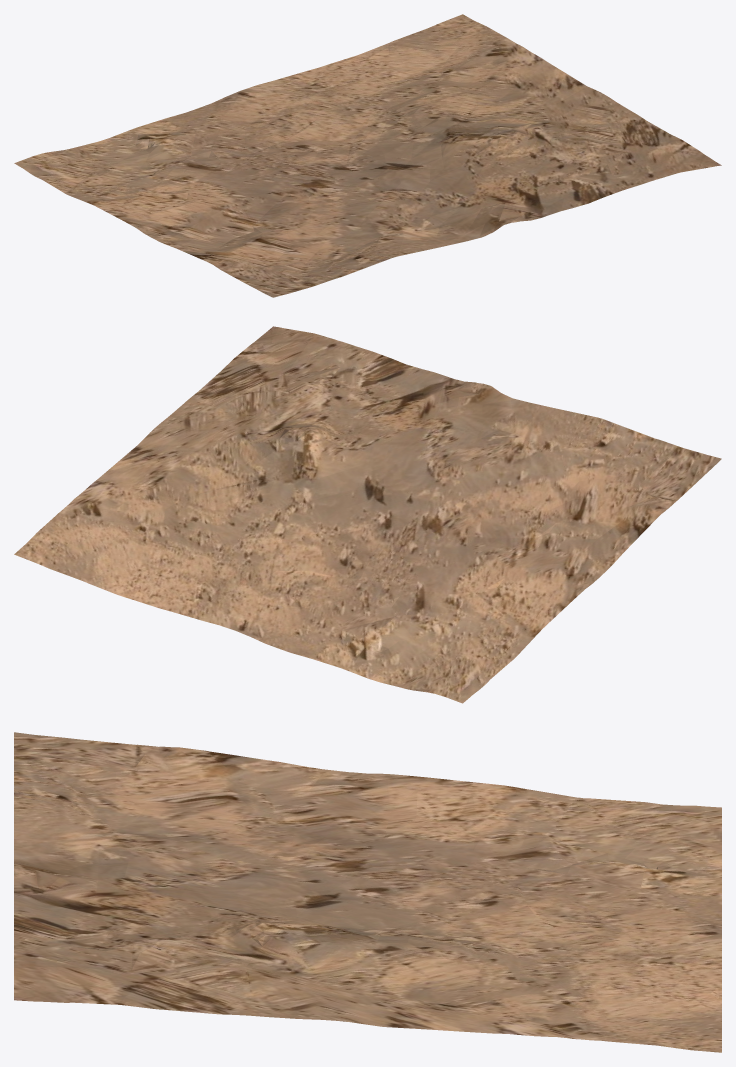
3 views of the same model, one above another, from view 1: azimuth 30°, elevation 25°; view 2: azimuth 150°, elevation 25°; view 3: azimuth 270°, elevation 25° (orthographic). The views are drawn at different scales.
Size of the model in its own units: 4.18 by 0.72 by 4.18.
2 materials, 2 textured.
